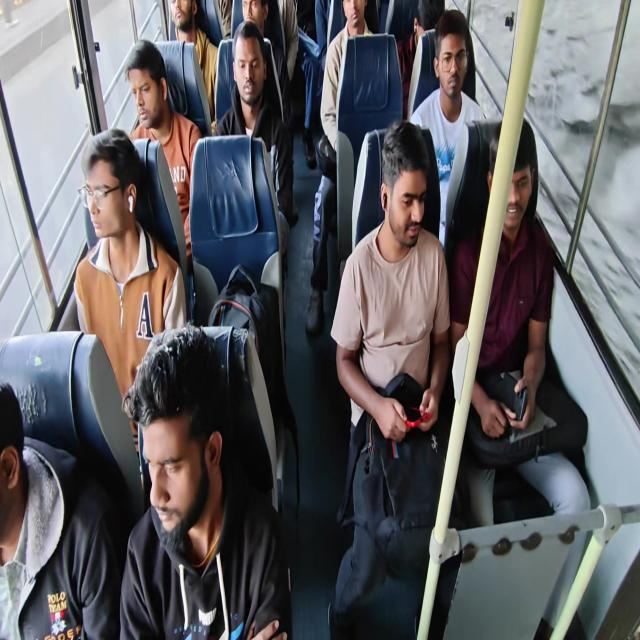person: (328, 118, 461, 638), (449, 116, 592, 527), (119, 322, 292, 639), (73, 128, 188, 474), (0, 381, 121, 639), (304, 0, 380, 335), (408, 9, 487, 249), (124, 39, 202, 267), (213, 20, 296, 232), (240, 0, 298, 126), (168, 0, 218, 123), (396, 0, 444, 119)
